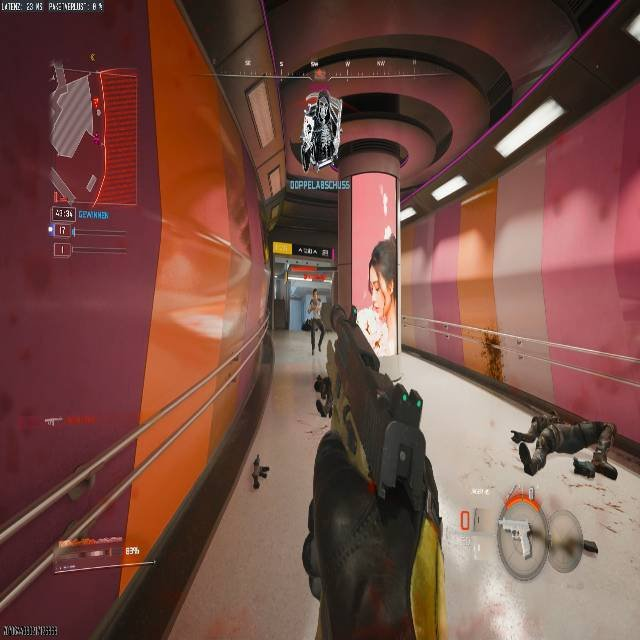head: (312, 288, 319, 297)
player: (302, 288, 325, 354)
